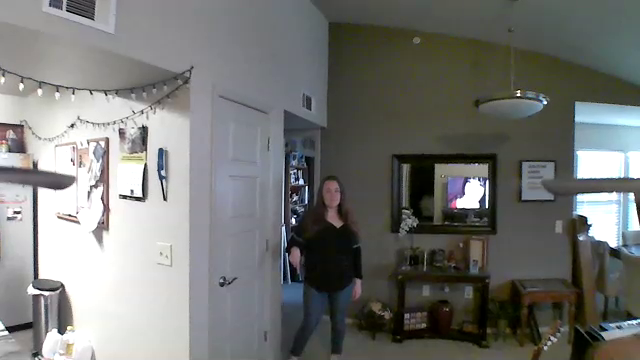down: (288, 239, 305, 277)
